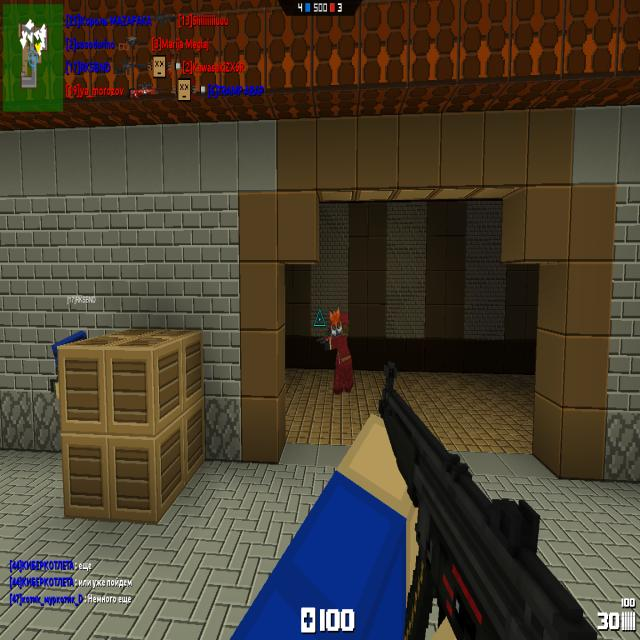enemy: (324, 310, 354, 396)
